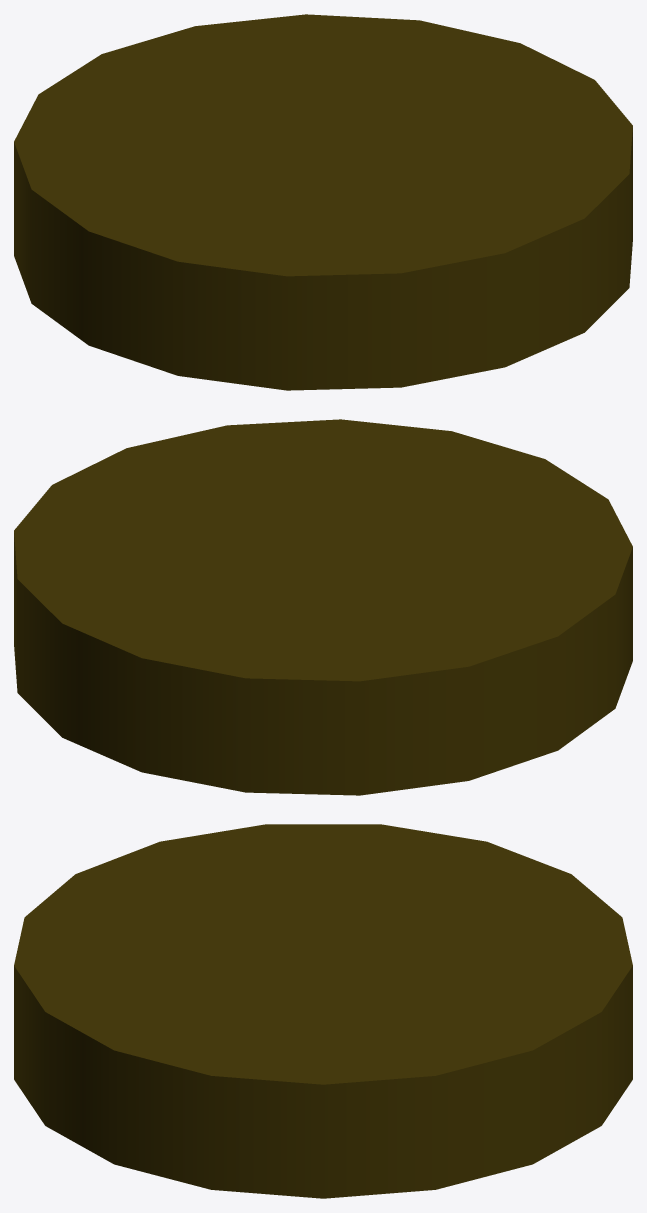
File: treasure_chest_A_coin_C.fbx
3 views of the same model, one above another, from view 1: azimuth 30°, elevation 25°; view 2: azimuth 150°, elevation 25°; view 3: azimuth 270°, elevation 25° (orthographic).
Parts seen in each view (by area): view 1: treasure_chest_A_coin_C; view 2: treasure_chest_A_coin_C; view 3: treasure_chest_A_coin_C.
Part boxes in pixels (x1,y1,x2,y2): treasure_chest_A_coin_C: [14, 14, 632, 390]; treasure_chest_A_coin_C: [14, 419, 632, 795]; treasure_chest_A_coin_C: [14, 824, 632, 1198].
Bounding box in the file's own units: 8.33 × 1.7 × 8.36.
